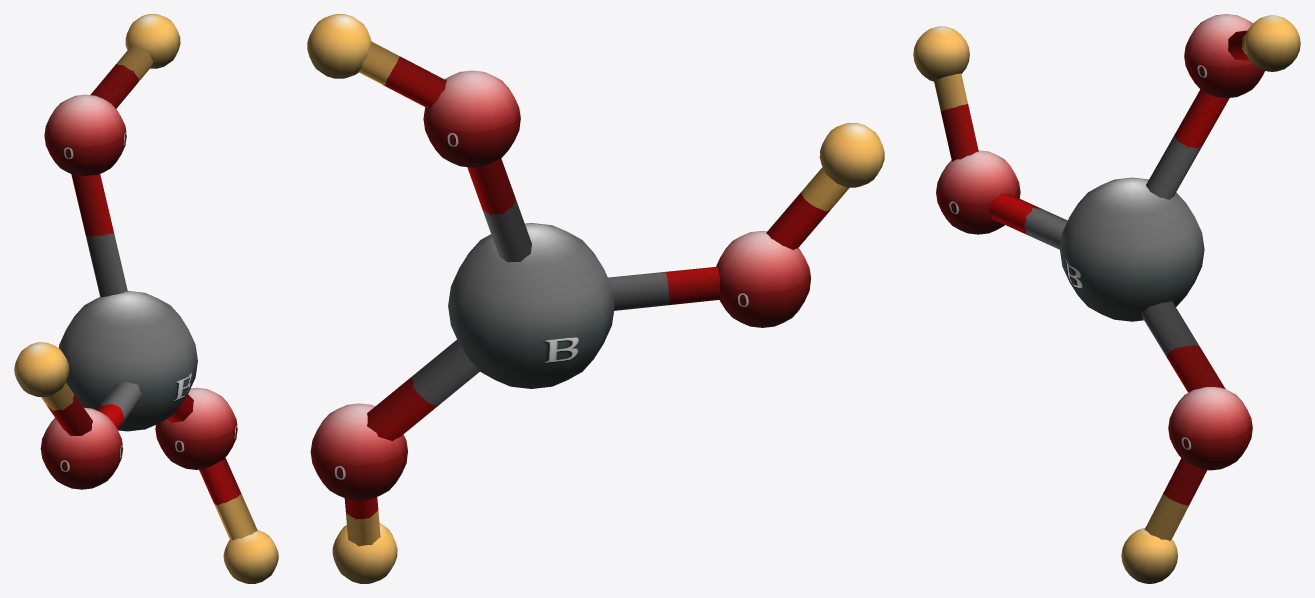
File: BoricAcid.dae
3 renders of one model, left to right at view 1: azimuth 30°, elevation 25°; view 2: azimuth 150°, elevation 25°; view 3: azimuth 270°, elevation 25°, orthographic. The views are drawn at different scales.
Visible parts, largest first — view 1: polySurface17; view 2: polySurface17; view 3: polySurface17.
Boxes of the visible parts, x1,y1,x2,y2 form: polySurface17: (14, 14, 278, 583); polySurface17: (307, 14, 884, 583); polySurface17: (913, 14, 1300, 583).
Size of the model in its own units: 4.61 by 6.52 by 4.21.
1 material, 1 textured.
